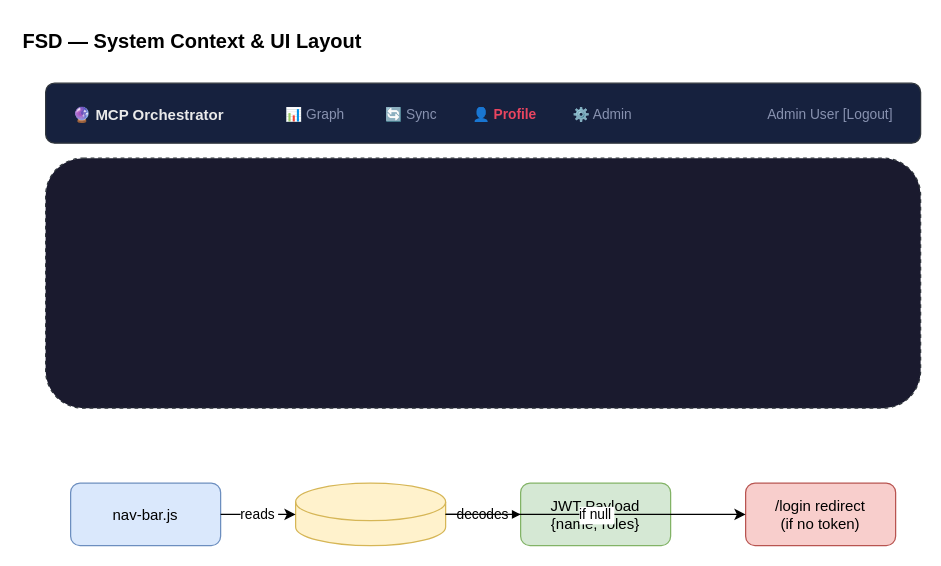
Some shapes in this 941 by 566 pixel diagram are drawn without their labels. Each missing label, with the centre of its shape:
"localStorage (auth_token)" belongs at pixel 370 514.
"Page Content (padding-top: 48px)" belongs at pixel 482 282.
